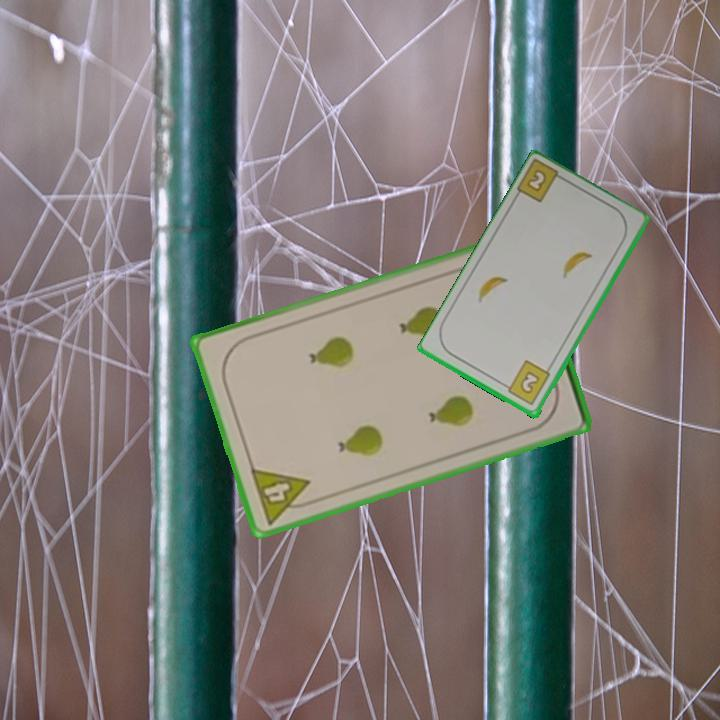2b: (500, 357, 553, 408), (523, 166, 550, 195)
4p: (246, 464, 319, 527)
